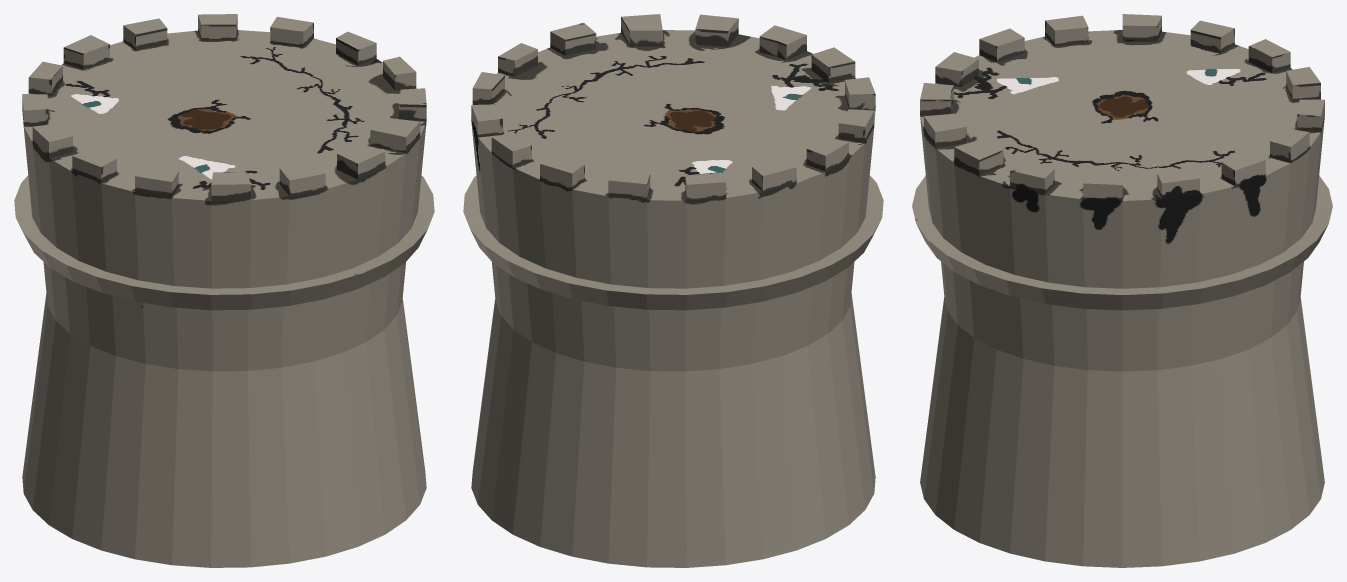
File: WolfJam2026HubAreaTower.fbx
3 views of the same model, side by side, from view 1: azimuth 30°, elevation 25°; view 2: azimuth 150°, elevation 25°; view 3: azimuth 270°, elevation 25° (orthographic).
Parts seen in each view (by area): view 1: Cylinder; view 2: Cylinder; view 3: Cylinder.
Part boxes in pixels (box(x1,y1,x2,y2)): Cylinder: box(14, 14, 434, 567); Cylinder: box(463, 14, 883, 567); Cylinder: box(912, 14, 1332, 567).
Bounding box in the file's own units: 208 × 209 × 208.
